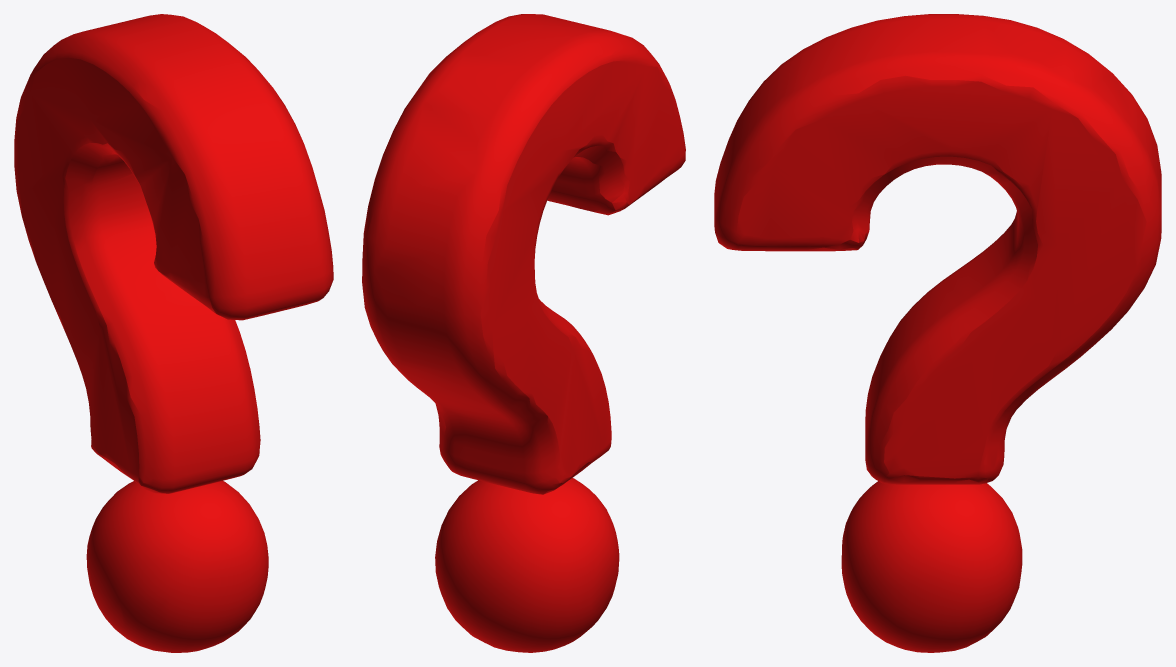
The model's file is Interrogacion.fbx.
3 views of the same model, side by side, from view 1: azimuth 30°, elevation 25°; view 2: azimuth 150°, elevation 25°; view 3: azimuth 270°, elevation 25° (orthographic). The views are drawn at different scales.
Visible parts, largest first — view 1: tripo_node_f2268998_a3ac_4d04_bbe0_14c316561d4f; view 2: tripo_node_f2268998_a3ac_4d04_bbe0_14c316561d4f; view 3: tripo_node_f2268998_a3ac_4d04_bbe0_14c316561d4f.
Boxes of the visible parts, x1,y1,x2,y2 form: tripo_node_f2268998_a3ac_4d04_bbe0_14c316561d4f: (14,14,333,652); tripo_node_f2268998_a3ac_4d04_bbe0_14c316561d4f: (362,14,685,652); tripo_node_f2268998_a3ac_4d04_bbe0_14c316561d4f: (714,14,1161,652).
Size of the model in its own units: 0.2658 by 0.9983 by 0.6671.
